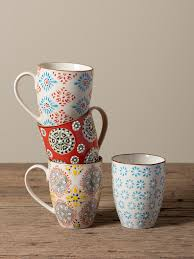mug: (11, 137, 121, 229), (27, 91, 128, 173), (98, 149, 181, 238), (10, 55, 102, 133)
